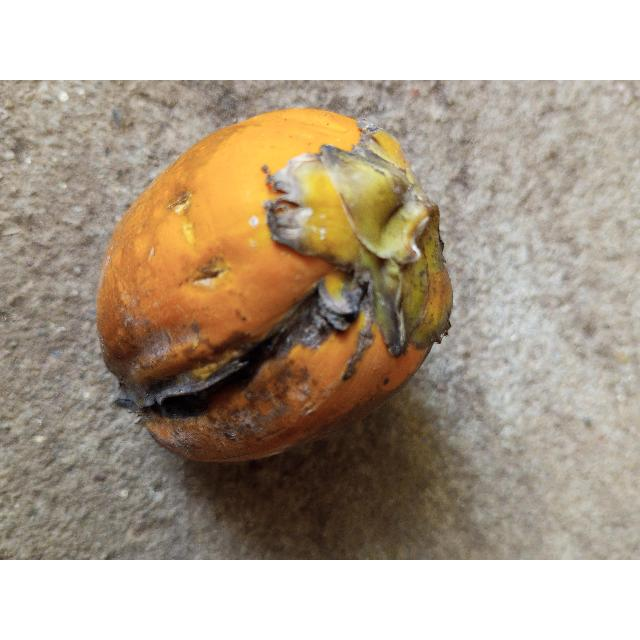damaged: (96, 108, 455, 466)
